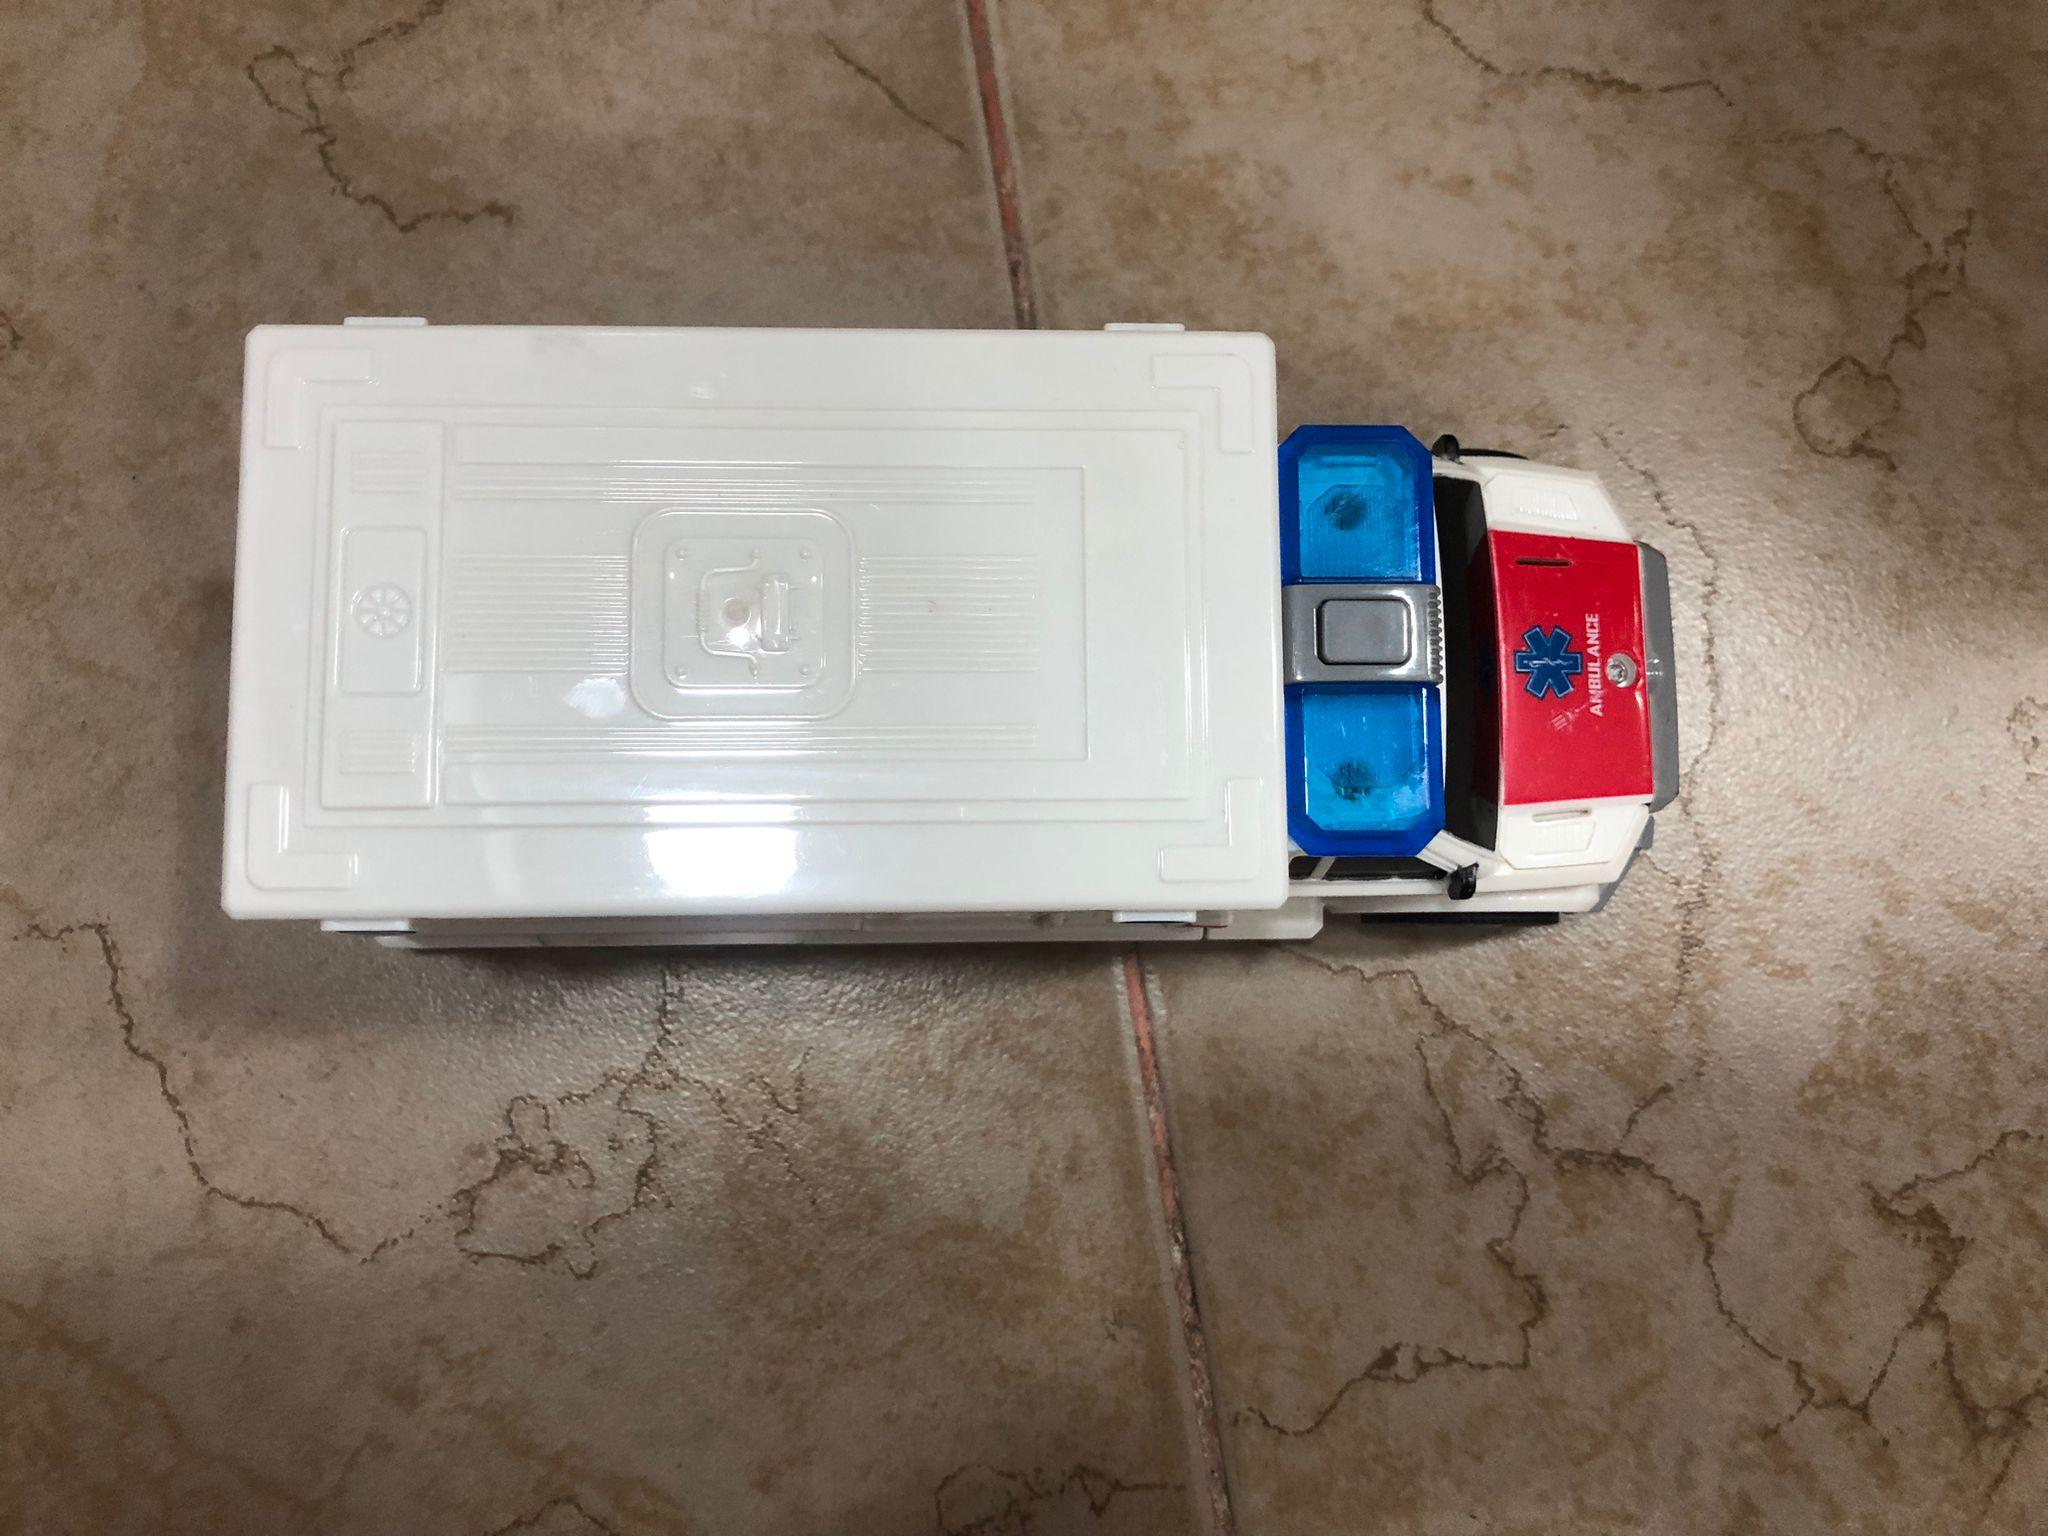ambulance_off: (219, 311, 1688, 960)
